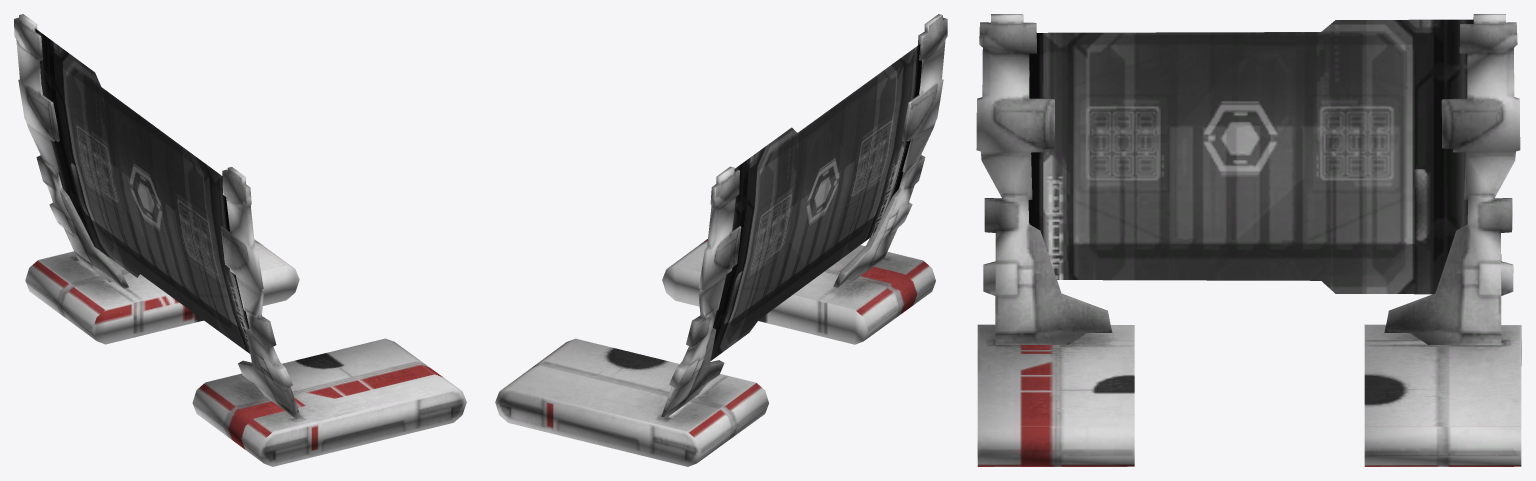
Rendered from ComputerScreen.FBX.
The picture shows the model from 3 angles, left to right: view 1: azimuth 30°, elevation 25°; view 2: azimuth 150°, elevation 25°; view 3: azimuth 270°, elevation 25°; orthographic projection. The views are drawn at different scales.
Visible parts, largest first — view 1: ComputerScreen; view 2: ComputerScreen; view 3: ComputerScreen.
Part boxes in pixels (x1,y1,x2,y2): ComputerScreen: (14,14,466,466); ComputerScreen: (495,14,947,466); ComputerScreen: (976,14,1521,466).
Bounding box in the file's own units: 0.2906 × 0.3677 × 0.5395.
